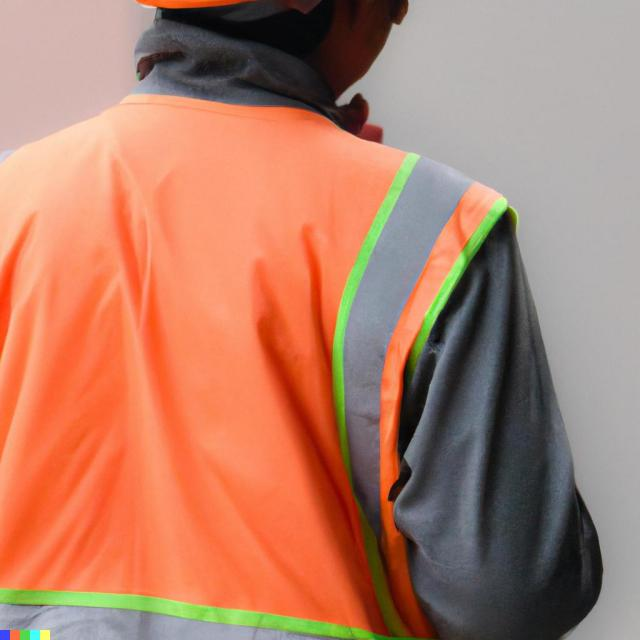Reflective-Jacket: (0, 69, 535, 640)
